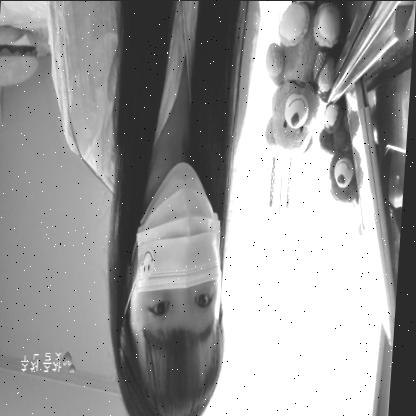streamer: (23, 0, 261, 416)
